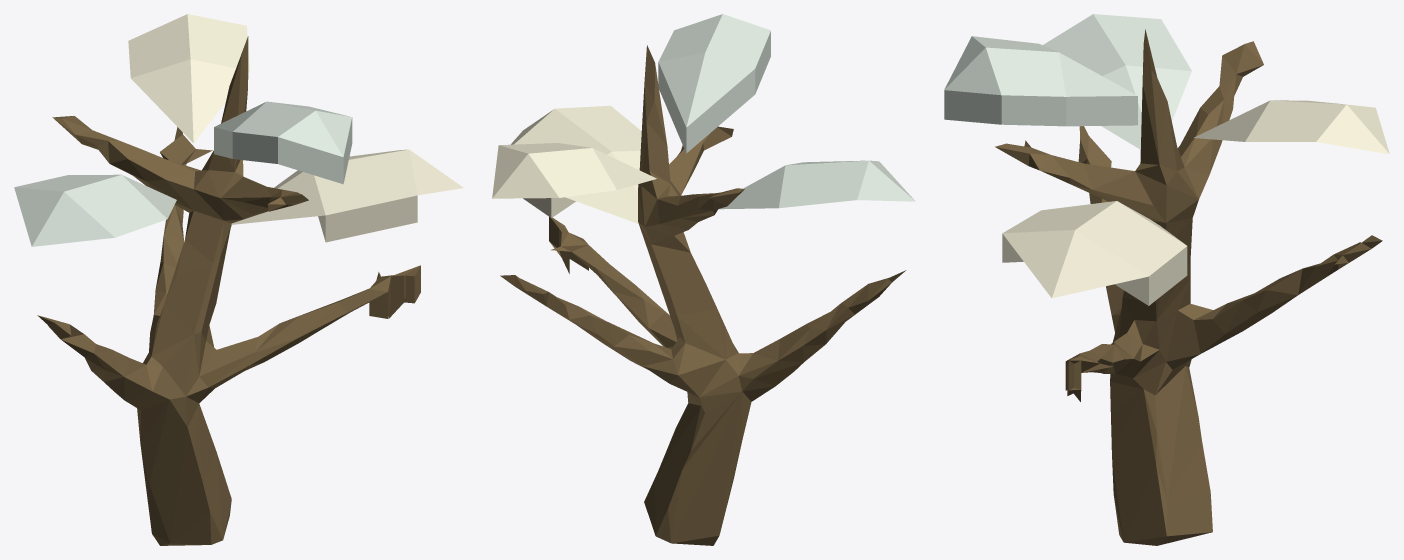
File: SNOWCAP_SHRUB.lo.glb
3 renders of one model, left to right at view 1: azimuth 30°, elevation 25°; view 2: azimuth 150°, elevation 25°; view 3: azimuth 270°, elevation 25°, orthographic. The views are drawn at different scales.
Parts seen in each view (by area): view 1: SNOWCAP_SHRUB; view 2: SNOWCAP_SHRUB; view 3: SNOWCAP_SHRUB.
Part boxes in pixels (bbox=[...]): SNOWCAP_SHRUB: bbox=[14, 14, 463, 545]; SNOWCAP_SHRUB: bbox=[492, 14, 915, 545]; SNOWCAP_SHRUB: bbox=[944, 14, 1389, 545].
Bounding box in the file's own units: 0.4397 × 0.4968 × 0.3697.
Materials: 1 (1 with a texture image).
